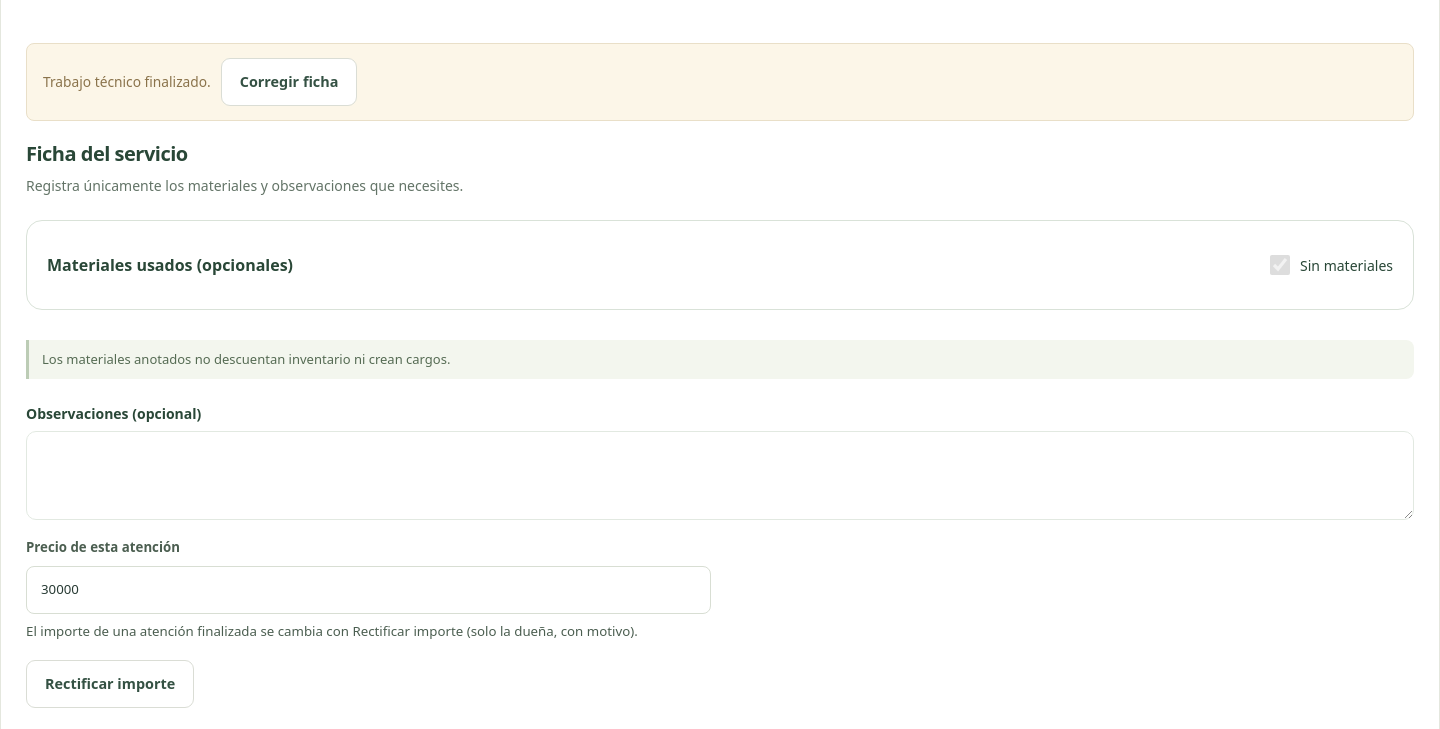
Test: cierra la corrección confirmada, bloquea los campos y permite iniciar otra con motivo nuevo
Expected: the text box labelled "Observaciones (opcional)" is shown, 26,431 -> 1414,520
Click the button "Corregir ficha" at [289, 82], box 221,58 -> 357,106
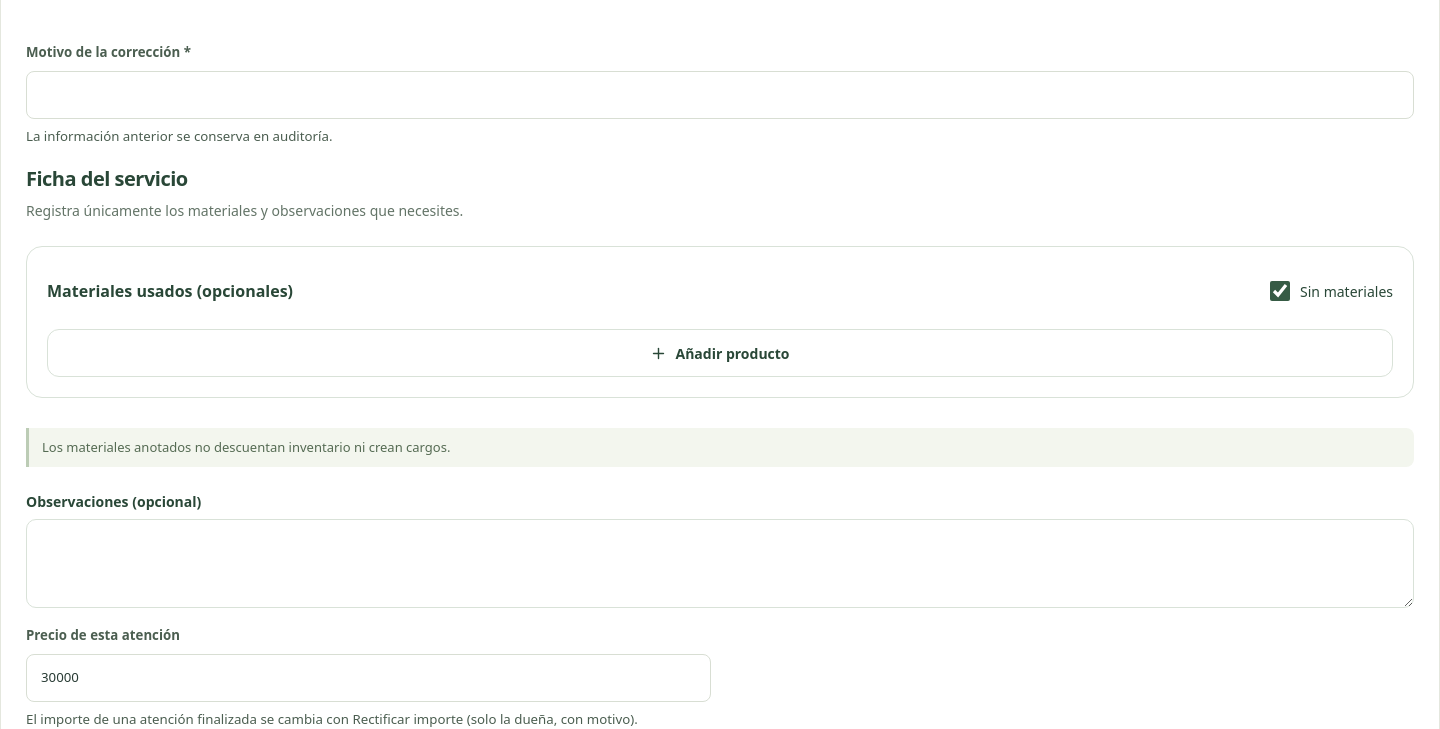
Type "Ajustar observaciones" into the field labelled "Motivo de la corrección" at [720, 94], box 26,70 -> 1414,118
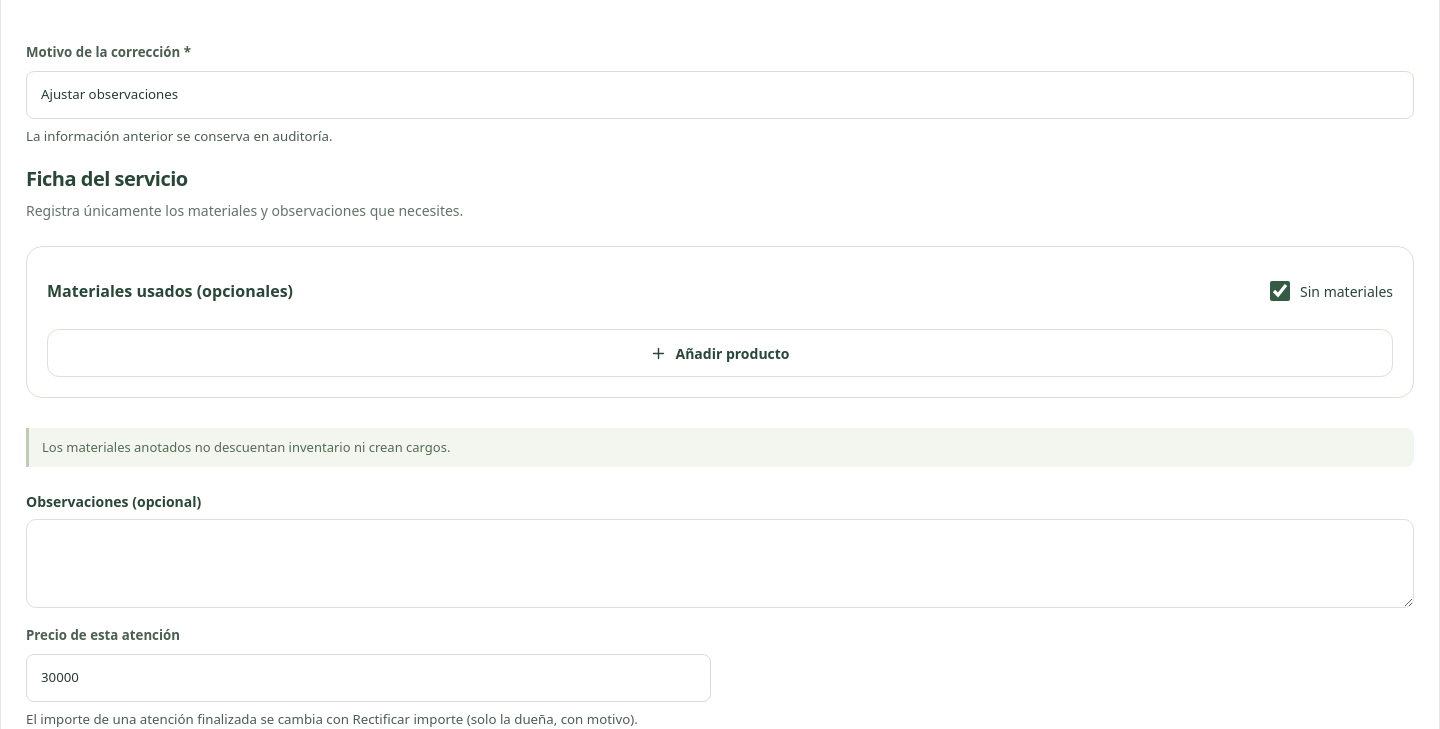
Type "Corrección guardada" into the text box labelled "Observaciones (opcional)" at [720, 563], box 26,519 -> 1414,608
(page scrolled)
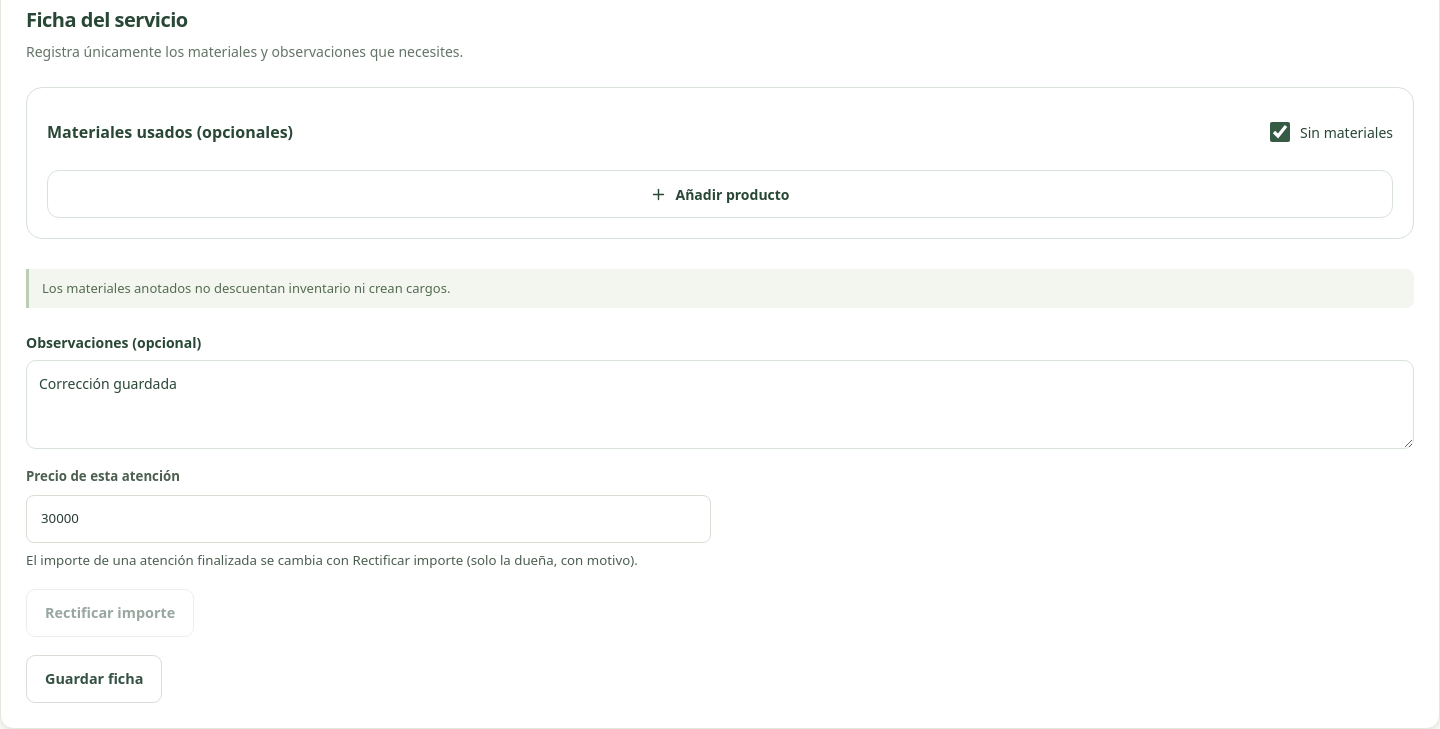
Click the button "Guardar ficha" at [94, 679], box 26,655 -> 162,703
(page scrolled)
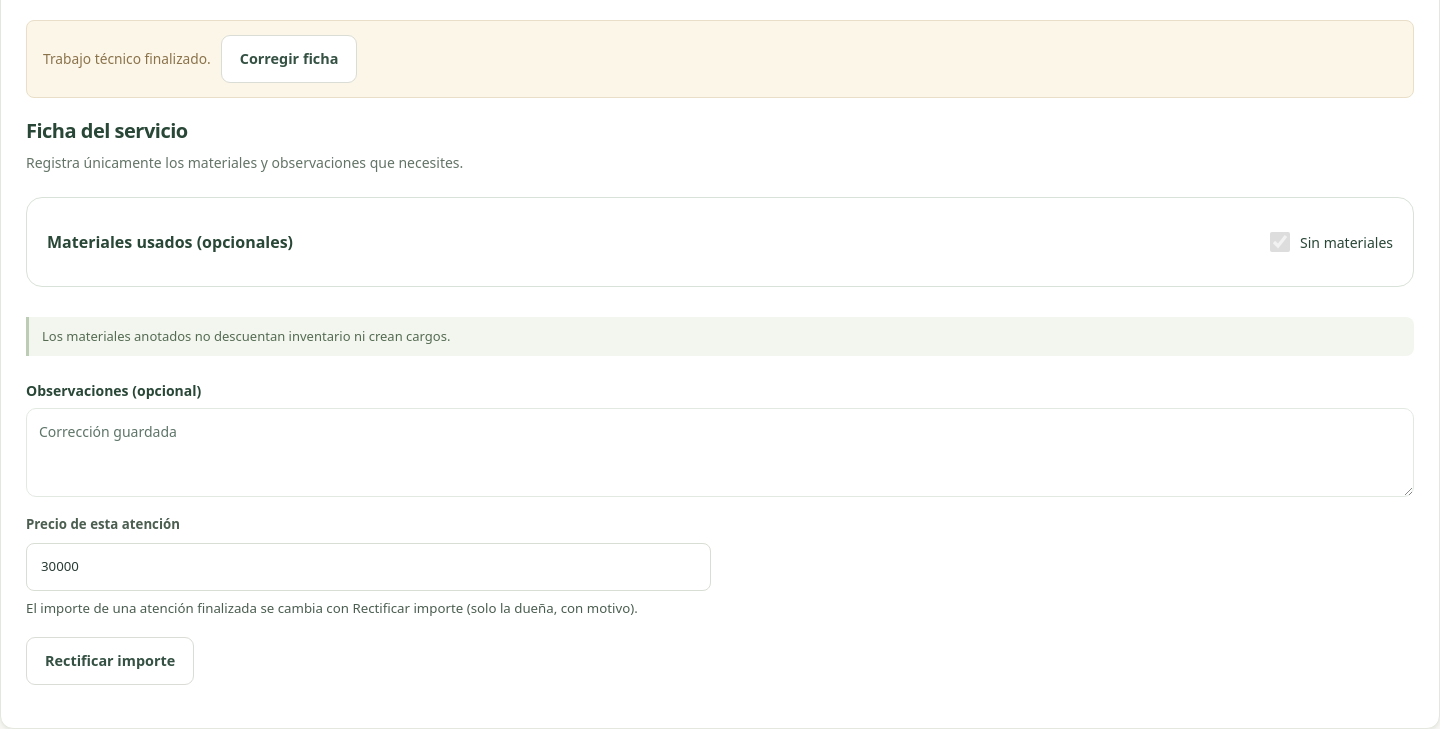
Result: the button "Corregir ficha" is shown
Result: the button "Guardar ficha" is gone
Result: the text box labelled "Observaciones (opcional)" is disabled at 26,408 -> 1414,497
Click the button "Corregir ficha" at [289, 59], box 221,35 -> 357,83
(page scrolled)
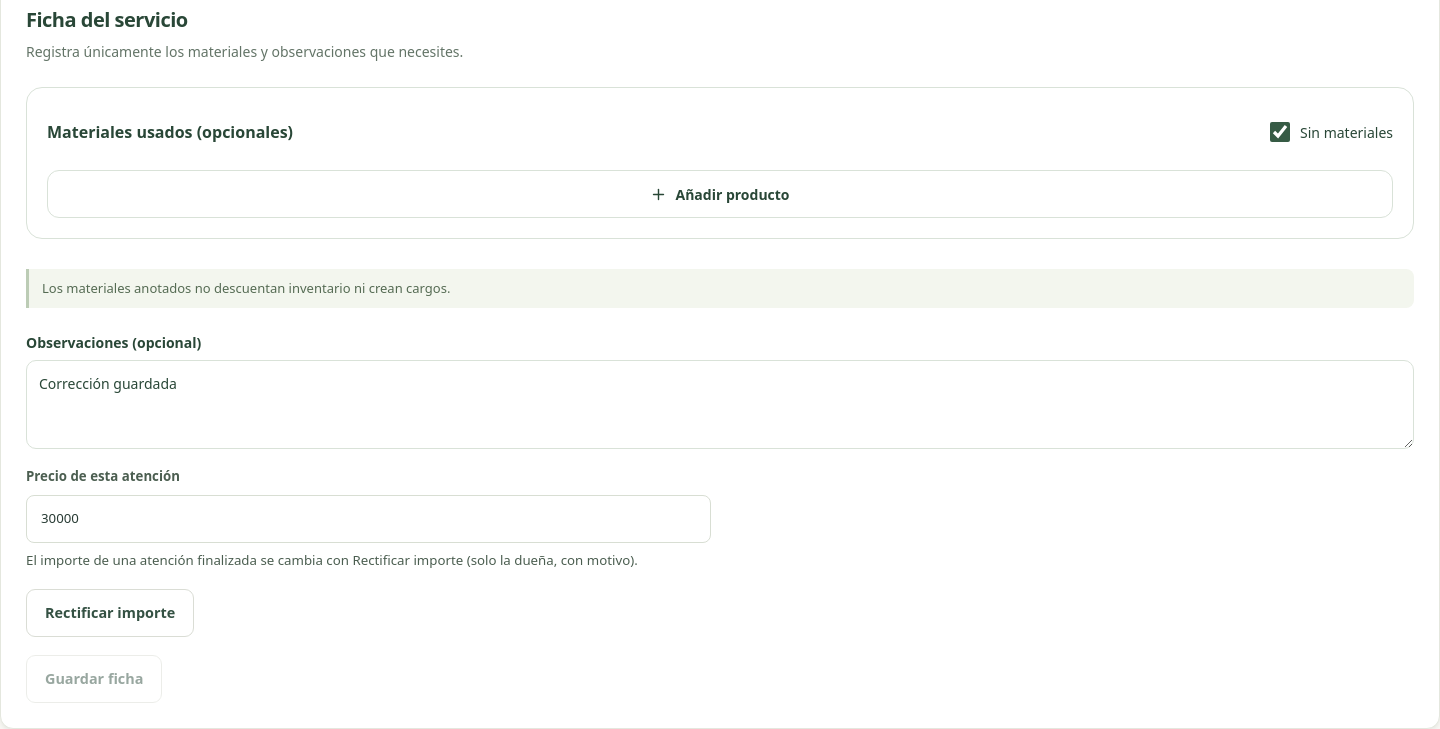
Result: the text box labelled "Observaciones (opcional)" is enabled at 26,360 -> 1414,449
Result: the button "Guardar ficha" is disabled at 26,655 -> 162,703
